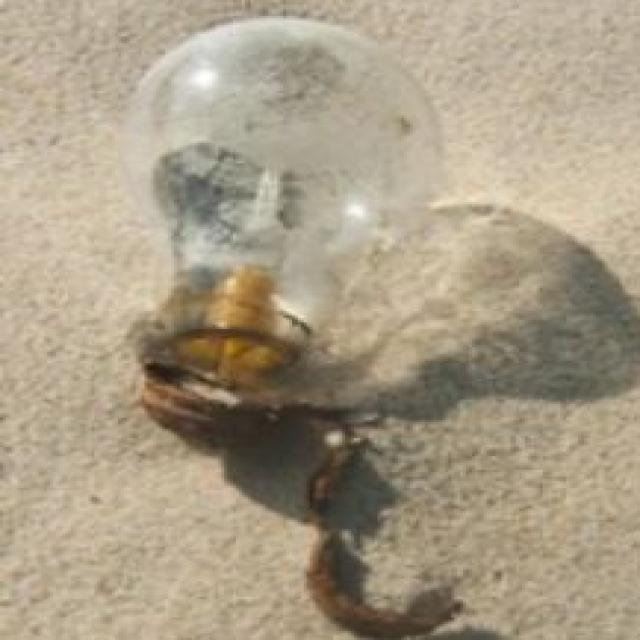electronic: (112, 11, 637, 638), (112, 11, 451, 442)
